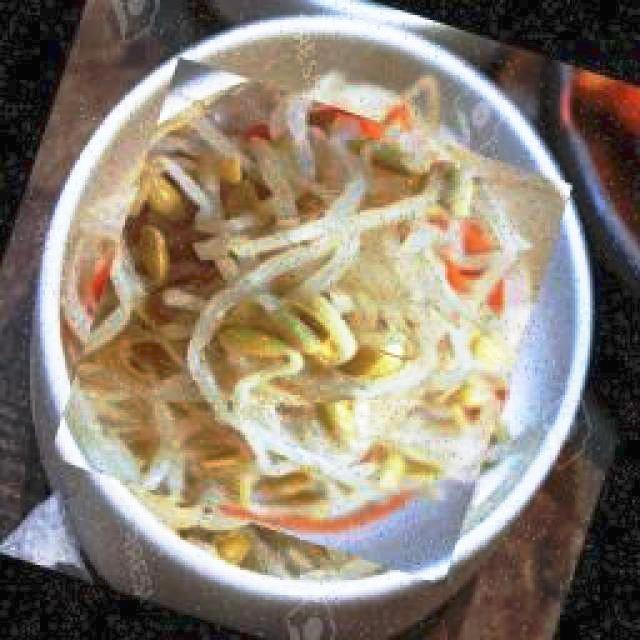mung_bean_sprouts: (108, 77, 523, 562)
